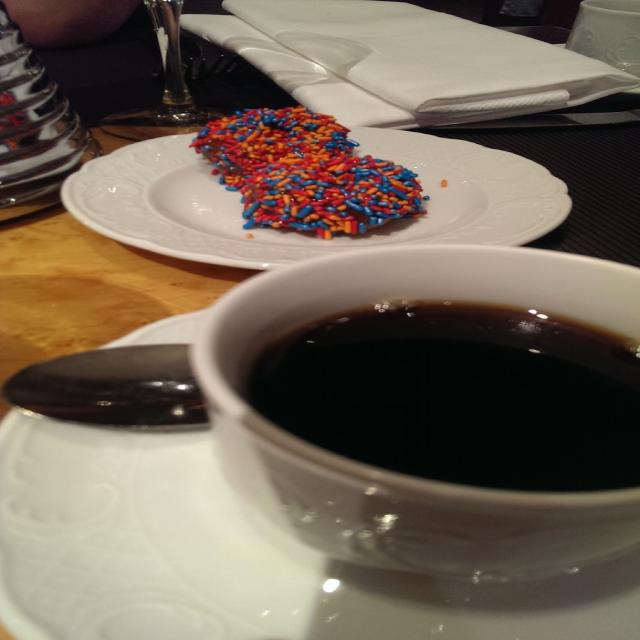Coffee: (141, 235, 639, 603)
Tea: (248, 297, 640, 493)
